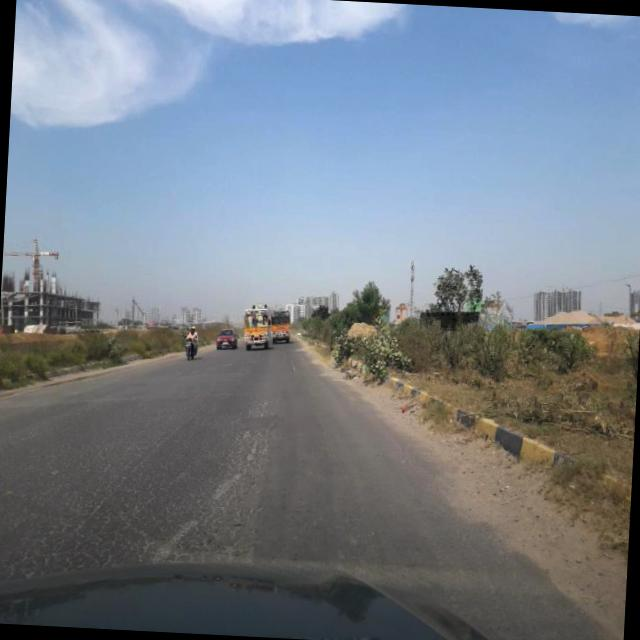pothole: (58, 392, 206, 552)
